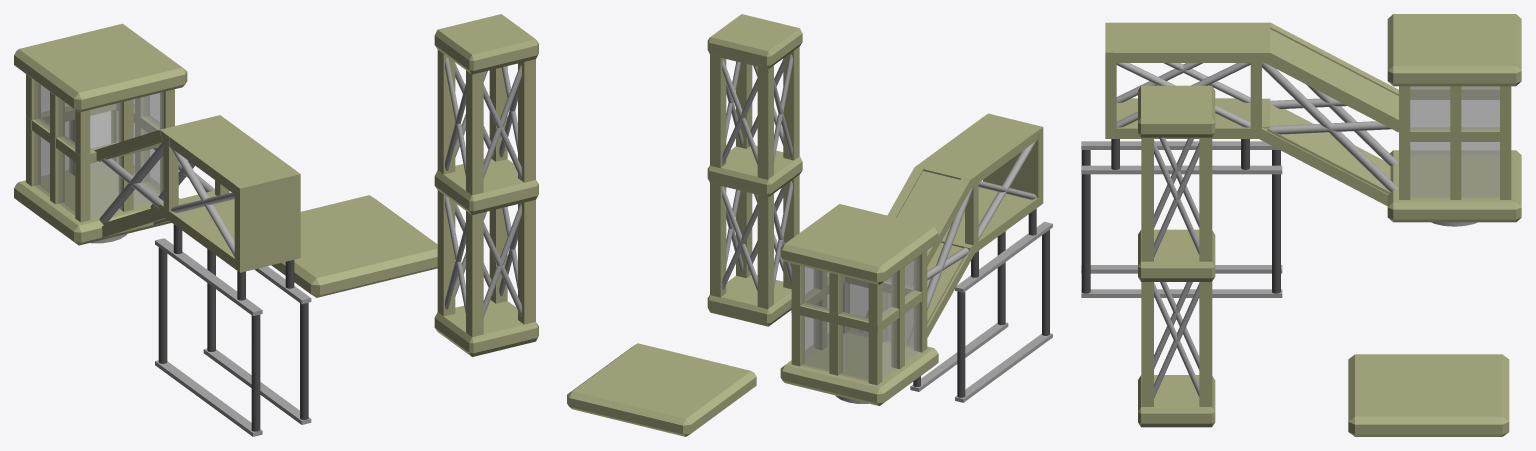
File: Crain.fbx
The picture shows the model from 3 angles, left to right: view 1: azimuth 30°, elevation 25°; view 2: azimuth 150°, elevation 25°; view 3: azimuth 270°, elevation 25°; orthographic projection. The views are drawn at different scales.
Parts seen in each view (by area): view 1: group40_pasted__group39_pasted__pasted__group7_pasted__paste, pasted__pasted__pCube1, pasted__pCube1; view 2: group40_pasted__group39_pasted__pasted__group7_pasted__paste, pasted__pasted__pCube1, pasted__pCube1; view 3: group40_pasted__group39_pasted__pasted__group7_pasted__paste, pasted__pasted__pCube1, pasted__pCube1.
Boxes of the visible parts, x1,y1,x2,y2 form: group40_pasted__group39_pasted__pasted__group7_pasted__paste: (14,23,311,436); pasted__pasted__pCube1: (434,14,538,356); pasted__pCube1: (271,195,437,297); group40_pasted__group39_pasted__pasted__group7_pasted__paste: (780,113,1052,405); pasted__pasted__pCube1: (707,14,802,326); pasted__pCube1: (567,343,756,436); group40_pasted__group39_pasted__pasted__group7_pasted__paste: (1081,14,1521,297); pasted__pasted__pCube1: (1138,85,1215,427); pasted__pCube1: (1348,354,1509,436).
Bounding box in the file's own units: 18.76 × 15.53 × 19.71.
